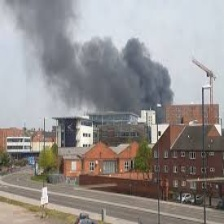smoke: (11, 1, 176, 113)
